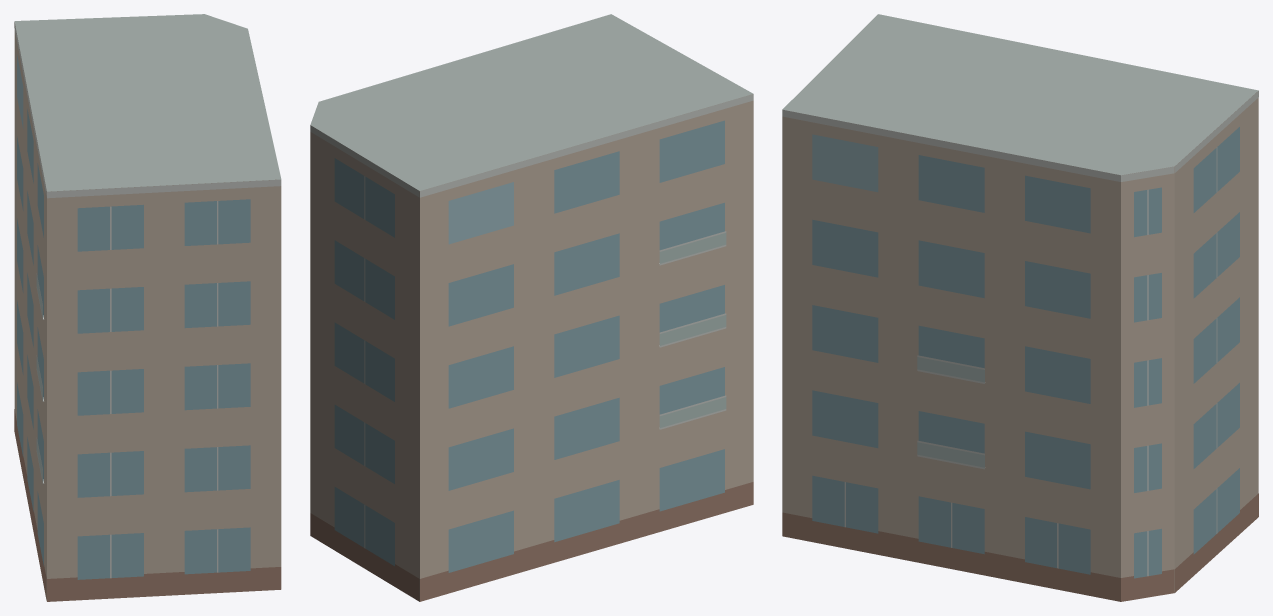
Rendered from survey-upis-32536948.glb.
The picture shows the model from 3 angles, left to right: view 1: azimuth 30°, elevation 25°; view 2: azimuth 150°, elevation 25°; view 3: azimuth 270°, elevation 25°; orthographic projection. The views are drawn at different scales.
Parts seen in each view (by area): view 1: survey-upis-32536948.tmp; view 2: survey-upis-32536948.tmp; view 3: survey-upis-32536948.tmp.
Boxes of the visible parts, box(x1,y1,x2,y2) form: survey-upis-32536948.tmp: box(14, 14, 281, 601); survey-upis-32536948.tmp: box(310, 14, 753, 601); survey-upis-32536948.tmp: box(782, 14, 1258, 601).
Bounding box in the file's own units: 12.25 × 15.1 × 15.29.
